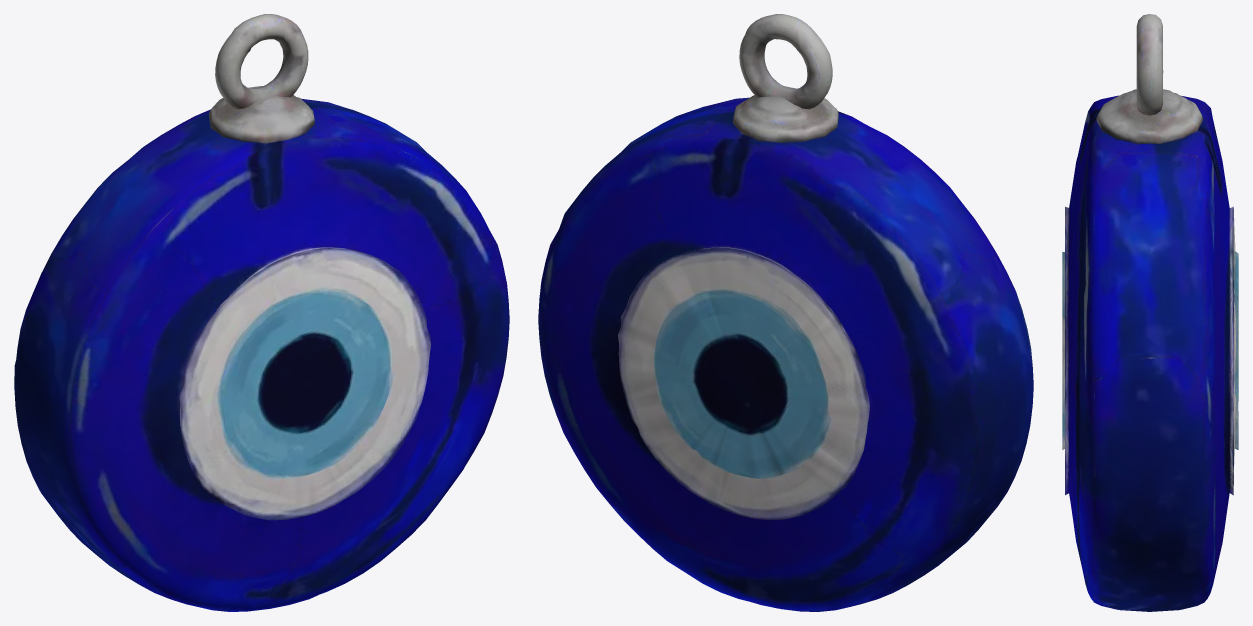
Rendered from sus_nazar.glb.
The picture shows the model from 3 angles, left to right: view 1: azimuth 30°, elevation 25°; view 2: azimuth 150°, elevation 25°; view 3: azimuth 270°, elevation 25°; orthographic projection.
Visible parts, largest first — view 1: sus; view 2: sus; view 3: sus.
Part boxes in pixels (x1=…): sus: x1=14, y1=14, x2=509, y2=611; sus: x1=538, y1=14, x2=1033, y2=611; sus: x1=1062, y1=14, x2=1238, y2=611.
Bounding box in the file's own units: 0.0248 × 0.03 × 0.00845.
1 material, 1 textured.
